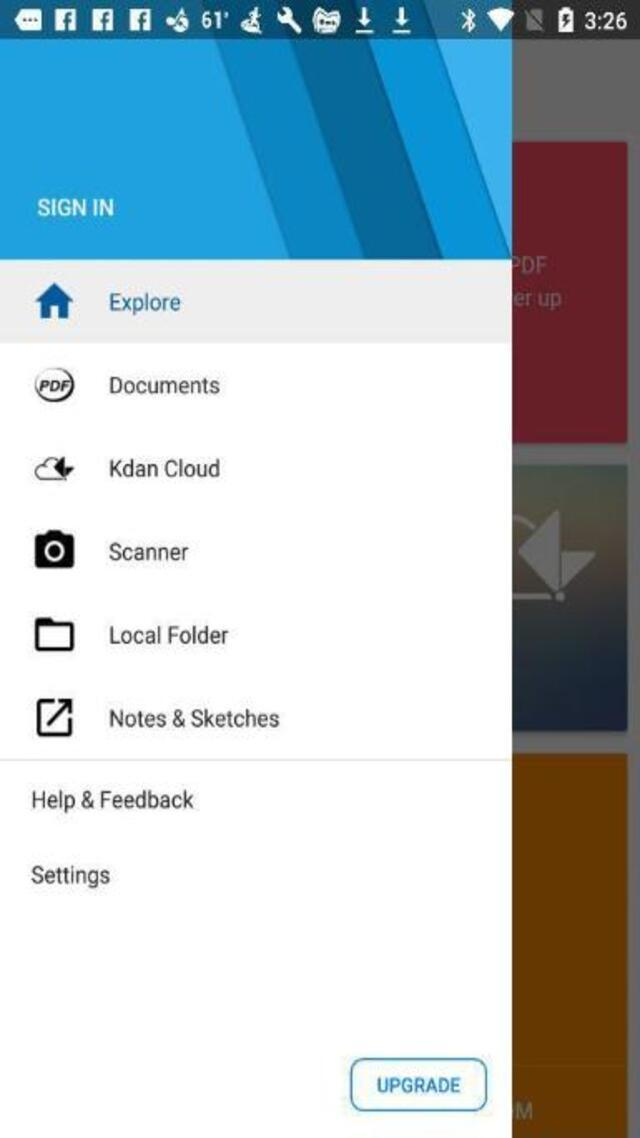Icon: (34, 530, 76, 569), (35, 281, 75, 320), (34, 366, 76, 403), (36, 697, 74, 736), (33, 615, 73, 651), (34, 455, 76, 480)
Text: (31, 788, 198, 812), (110, 706, 280, 727), (370, 1072, 466, 1098), (110, 625, 230, 645), (109, 457, 220, 478), (109, 374, 220, 394), (30, 865, 110, 888), (109, 292, 180, 316), (36, 198, 114, 218), (110, 542, 190, 560)
TextButton: (350, 1057, 488, 1109)
